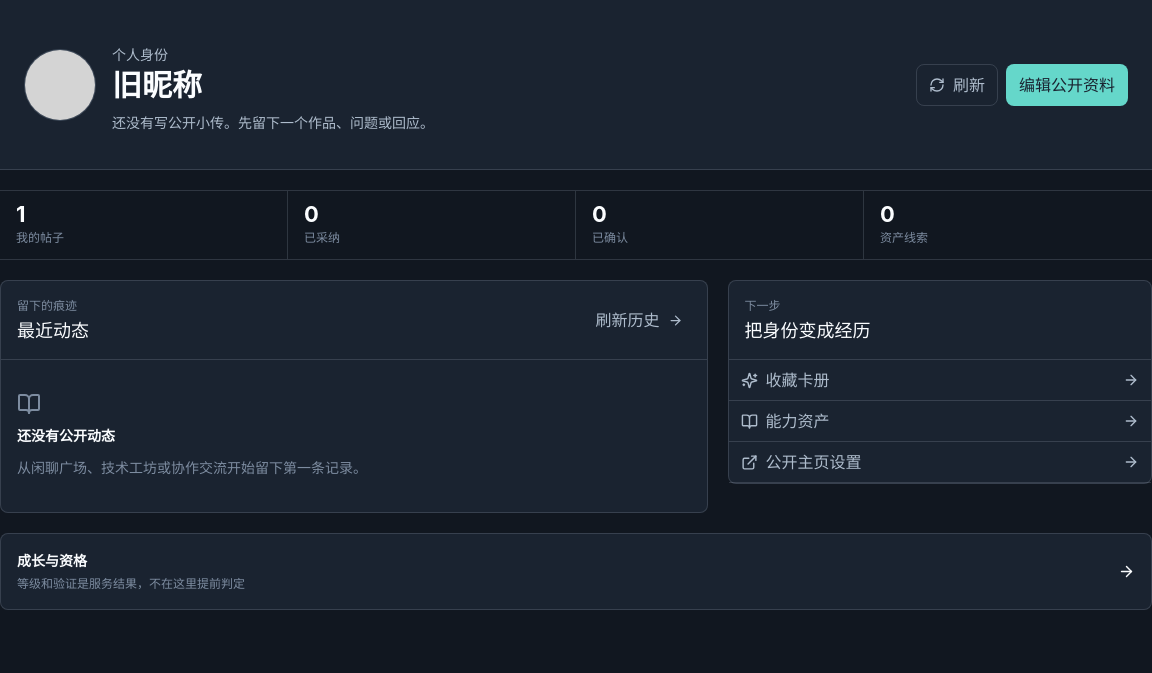
Test: ZeroCityPersonalHub › reports a successful save separately when profile readback fails
Click the button with class "city-personal-primary" at (1067, 84), box [1006,64,1128,106]
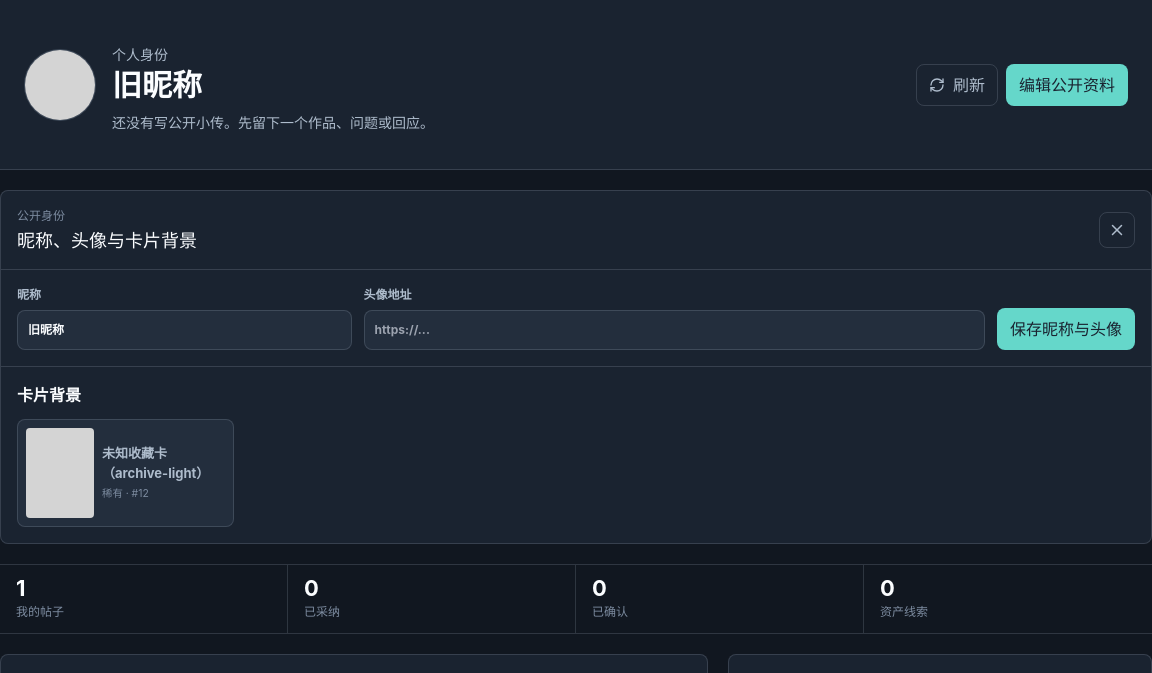
Replace the text in the field named "nickname" with "已保存昵称" at (184, 330), box [17,310,352,350]
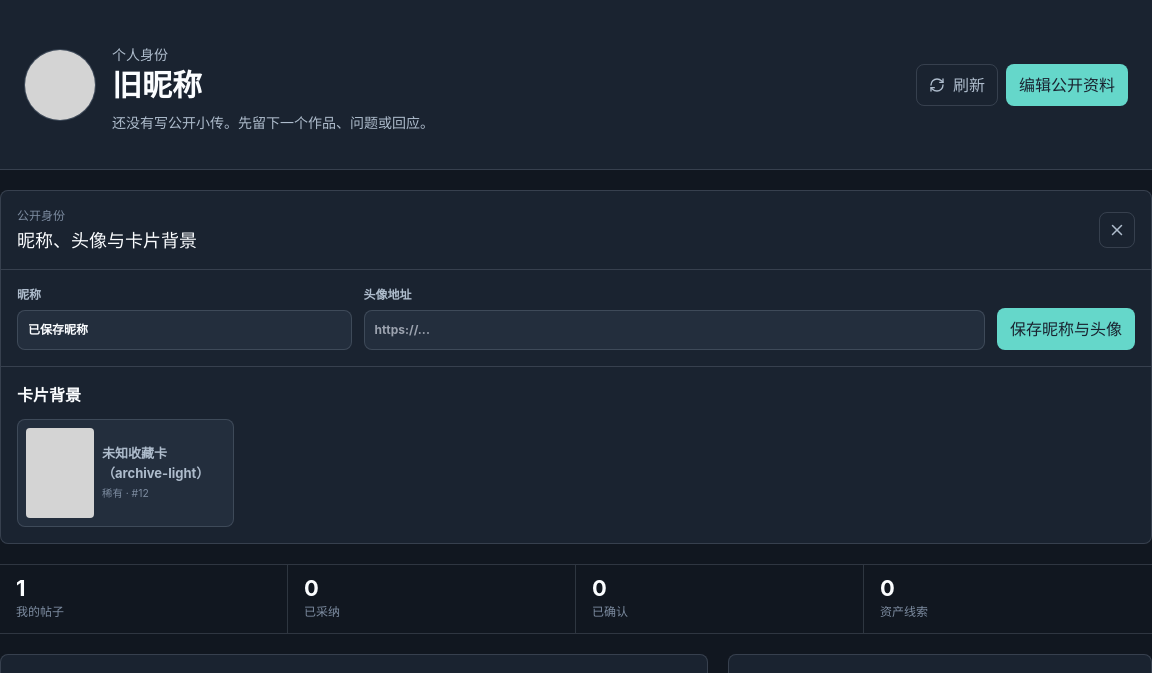
Type "https://example.test/saved.png" into the field named "avatar" at (674, 330), box [364,310,985,350]
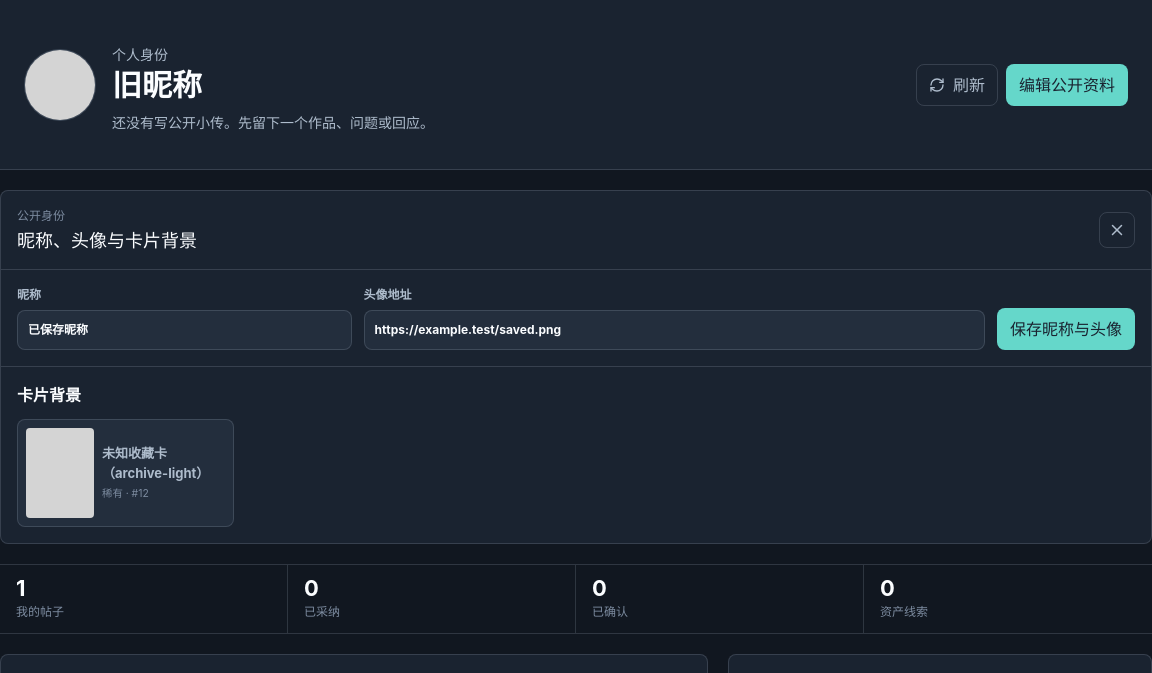
Submit the form with class "city-personal-editor-form", box [1,270,1151,367]
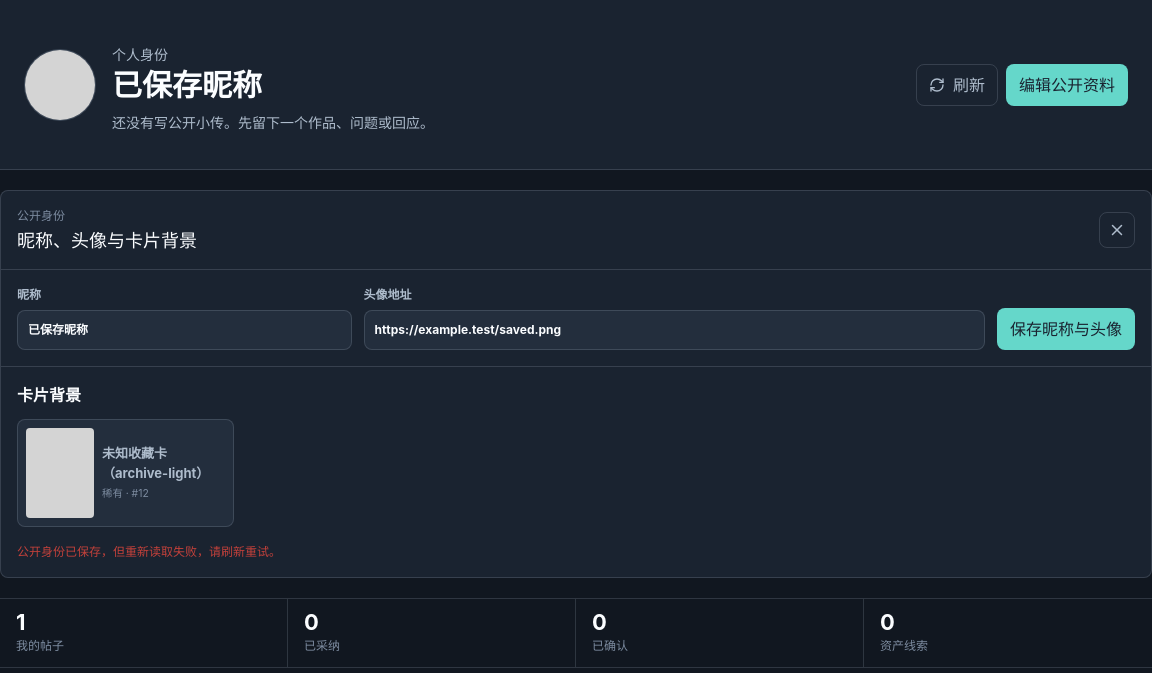
expect the message with class "city-personal-editor-message" shows "已保存": met, box [17,544,281,559]
expect the message with class "city-personal-editor-message" shows "重新读取失败": met, box [17,544,281,559]
expect the heading with id "city-personal-title" reads "已保存昵称": met, box [112,66,262,102]
